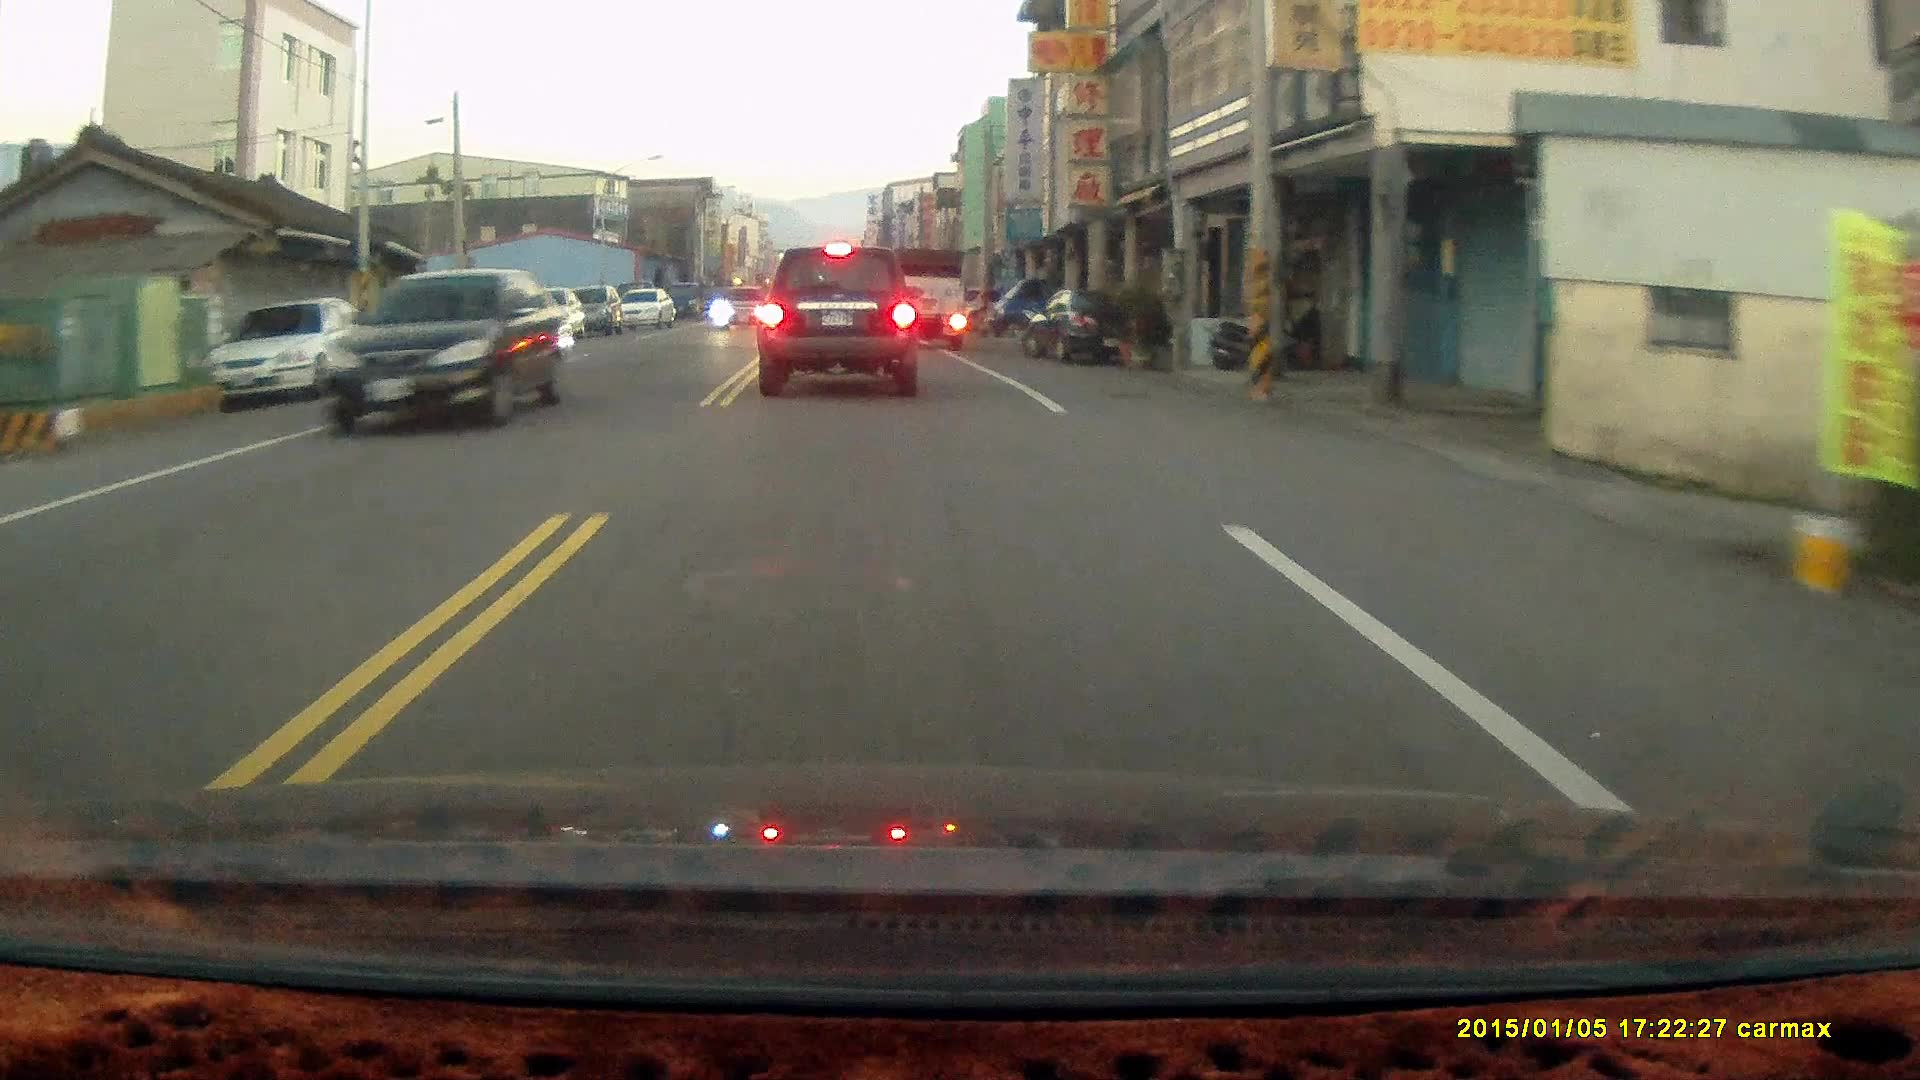vehicle: (320, 266, 562, 435), (756, 247, 920, 404), (211, 297, 378, 405), (1029, 293, 1155, 372), (887, 255, 971, 361), (554, 287, 625, 339), (709, 287, 778, 334), (615, 287, 676, 334)
